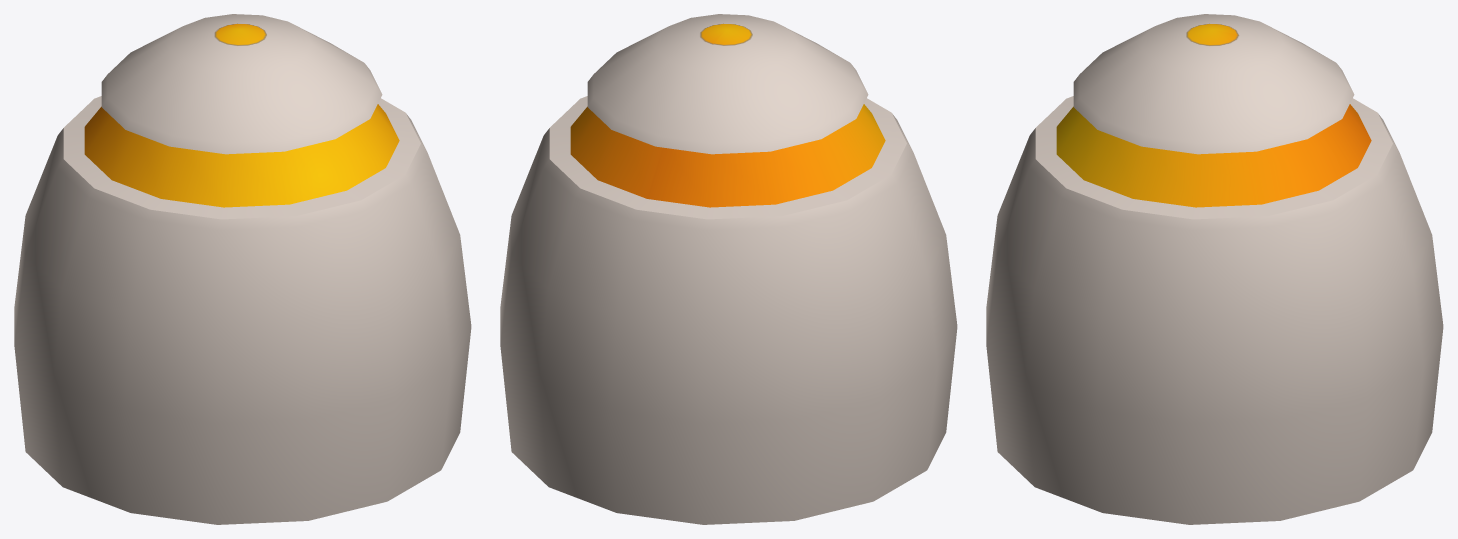
Rendered from Tall_B_5.fbx.
3 views of the same model, side by side, from view 1: azimuth 30°, elevation 25°; view 2: azimuth 150°, elevation 25°; view 3: azimuth 270°, elevation 25° (orthographic).
Parts seen in each view (by area): view 1: Tall_B_5; view 2: Tall_B_5; view 3: Tall_B_5.
Part boxes in pixels (x1,y1,x2,y2): Tall_B_5: (14,14,471,524); Tall_B_5: (500,14,957,524); Tall_B_5: (986,14,1443,524).
Bounding box in the file's own units: 9373 × 9074 × 9322.
